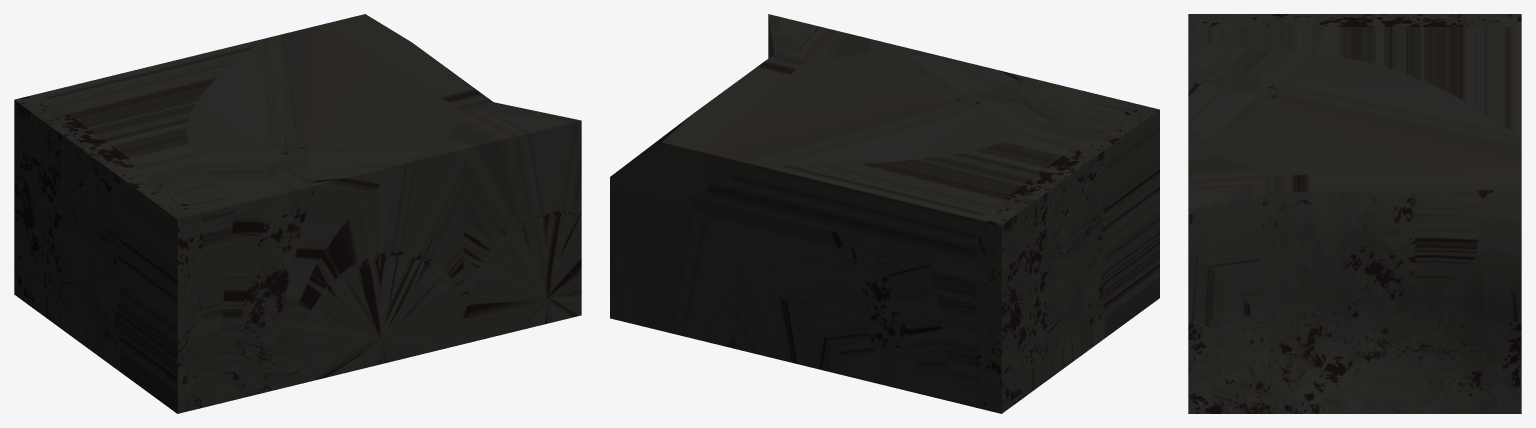
Rendered from Pillar04.FBX.
The picture shows the model from 3 angles, left to right: view 1: azimuth 30°, elevation 25°; view 2: azimuth 150°, elevation 25°; view 3: azimuth 270°, elevation 25°; orthographic projection. The views are drawn at different scales.
Visible parts, largest first — view 1: Box011; view 2: Box011; view 3: Box011.
Part boxes in pixels (x1,y1,x2,y2): Box011: (14,14,581,413); Box011: (610,14,1159,413); Box011: (1188,14,1521,413).
Bounding box in the file's own units: 8228 × 3787 × 5757.
